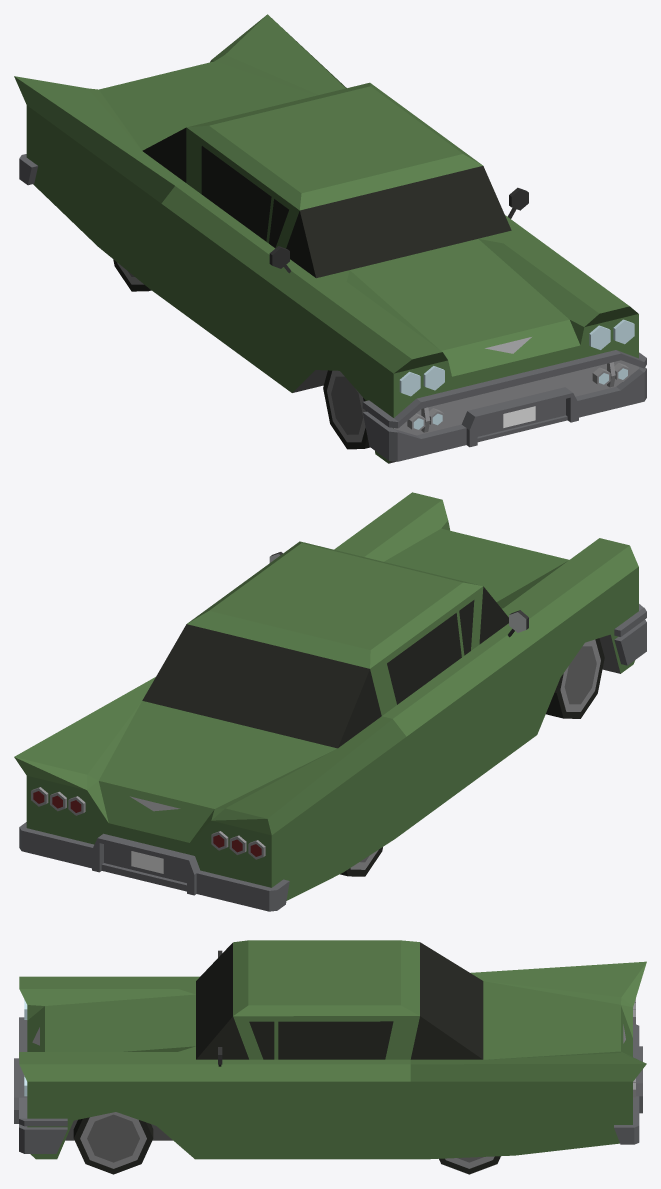
File: Veh_Retro_Car_03_Green.glb
The picture shows the model from 3 angles, top to bottom: view 1: azimuth 30°, elevation 25°; view 2: azimuth 150°, elevation 25°; view 3: azimuth 270°, elevation 25°; orthographic projection. The views are drawn at different scales.
Parts seen in each view (by area): view 1: Retro_Car_03_Green, Wheel_FR; view 2: Retro_Car_03_Green, Wheel_FR; view 3: Retro_Car_03_Green, Wheel_FL, Wheel_RL.
Part boxes in pixels (x1,y1,x2,y2): Retro_Car_03_Green: (14,14,646,463); Wheel_FR: (323,370,369,449); Retro_Car_03_Green: (14,492,646,911); Wheel_FR: (546,638,604,718); Retro_Car_03_Green: (14,940,646,1159); Wheel_FL: (73,1112,153,1174); Wheel_RL: (439,1156,500,1174).
Size of the model in its own units: 1.16 by 0.8052 by 2.99.
1 material, 1 textured.
